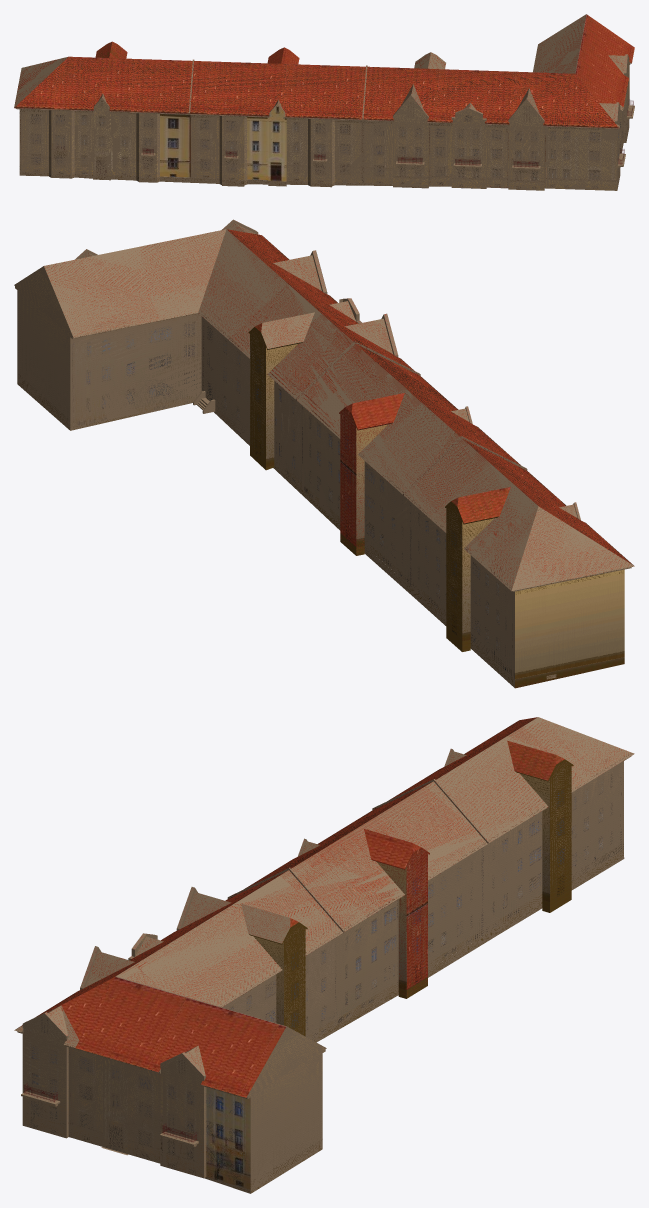
File: prvy_cinziak.glb
3 renders of one model, top to bottom at view 1: azimuth 30°, elevation 25°; view 2: azimuth 150°, elevation 25°; view 3: azimuth 270°, elevation 25°, orthographic. The views are drawn at different scales.
Visible parts, largest first — view 1: žltá-stena-tmavšia, STRECHA, P4151935txt, P4151938_txt1_rímsa_podhľad_horný, P4151937txt, P4151938txt, P4151940txt, zábradlie1, P4151938_txt1_rímsa_bok; view 2: žltá-stena-tmavšia, STRECHA, žLTá-STENA, žLTá_STENA2, žLTá_STENA1_1, P4151914txt1, STRECHA_4, P4151938_txt1_rímsa_podhľad_horný, žLTá_STENA2_24, P4151922txt3_26, P4151915txt, P4151925txt (+4 smaller); view 3: žltá-stena-tmavšia, STRECHA, P4151943_txt, žLTá_STENA1_1, STRECHA_4, žLTá_STENA2, P4151922txt3_26, žLTá_STENA2_24, P4151922txt3, P4151925txt, žLTá_STENA1_1_3, P4151915txt (+6 smaller).
Part boxes in pixels (<box>): žltá-stena-tmavšia: <box>14,14,634,190</box>; STRECHA: <box>14,14,634,128</box>; P4151935txt: <box>19,99,632,184</box>; P4151938_txt1_rímsa_podhľad_horný: <box>15,57,619,128</box>; P4151937txt: <box>393,96,544,190</box>; P4151938txt: <box>429,110,508,188</box>; P4151940txt: <box>545,127,617,190</box>; zábradlie1: <box>143,101,633,167</box>; P4151938_txt1_rímsa_bok: <box>20,109,609,188</box>; žltá-stena-tmavšia: <box>14,219,634,687</box>; STRECHA: <box>44,223,633,589</box>; žLTá-STENA: <box>515,569,624,679</box>; žLTá_STENA2: <box>266,344,624,688</box>; žLTá_STENA1_1: <box>248,323,508,650</box>; P4151914txt1: <box>70,314,201,425</box>; STRECHA_4: <box>339,394,402,555</box>; P4151938_txt1_rímsa_podhľad_horný: <box>228,229,629,562</box>; žLTá_STENA2_24: <box>15,269,72,423</box>; P4151922txt3_26: <box>302,407,339,523</box>; P4151915txt: <box>470,556,514,678</box>; P4151925txt: <box>250,329,462,640</box>; žltá-stena-tmavšia: <box>14,717,634,1193</box>; STRECHA: <box>16,717,633,1097</box>; P4151943_txt: <box>67,1048,250,1189</box>; žLTá_STENA1_1: <box>249,741,573,1036</box>; STRECHA_4: <box>364,830,429,995</box>; žLTá_STENA2: <box>22,773,549,1145</box>; P4151922txt3_26: <box>335,901,398,1024</box>; žLTá_STENA2_24: <box>248,1028,325,1184</box>; P4151922txt3: <box>482,814,542,933</box>; P4151925txt: <box>284,762,571,1035</box>; žLTá_STENA1_1_3: <box>205,852,623,1192</box>; P4151915txt: <box>571,762,623,880</box>.
Bounding box in the file's own units: 86.1 × 16.43 × 59.82.
Materials: 59 (59 with a texture image).
